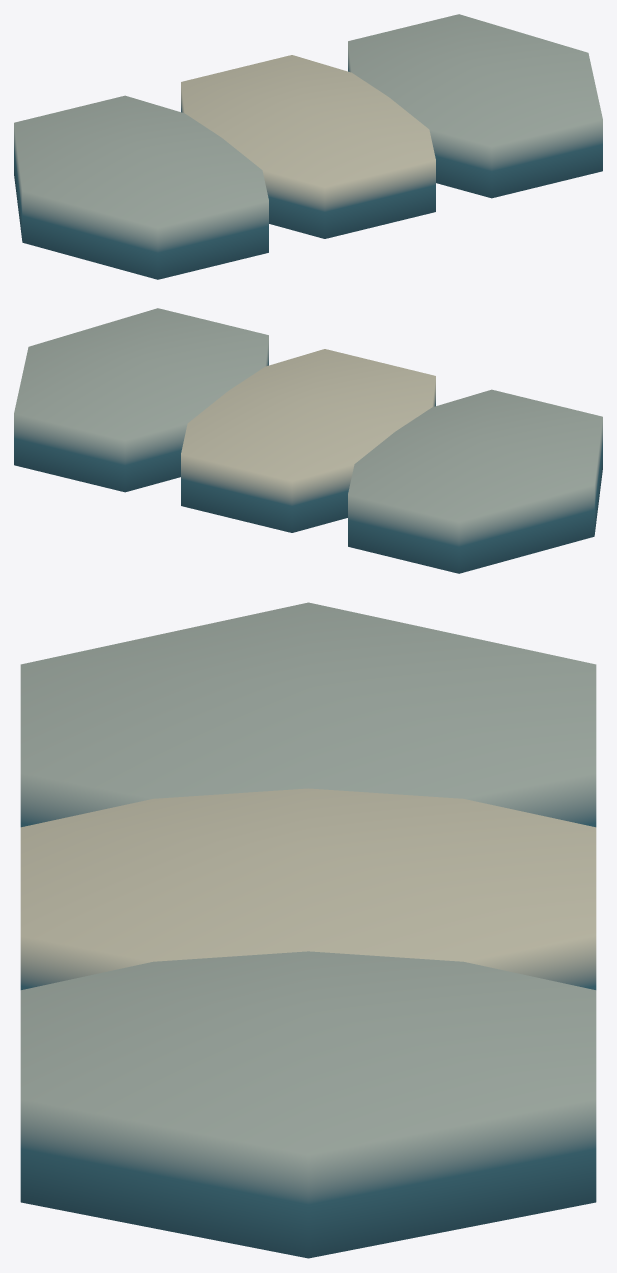
Rendered from carapace.glb.
3 renders of one model, top to bottom at view 1: azimuth 30°, elevation 25°; view 2: azimuth 150°, elevation 25°; view 3: azimuth 270°, elevation 25°, orthographic. The views are drawn at different scales.
Visible parts, largest first — view 1: carapace; view 2: carapace; view 3: carapace.
Part boxes in pixels (box(x1,y1,x2,y2)): carapace: box(14, 14, 602, 279); carapace: box(14, 308, 602, 573); carapace: box(20, 602, 596, 1258).
Bounding box in the file's own units: 0.9495 × 0.108 × 0.4182.
